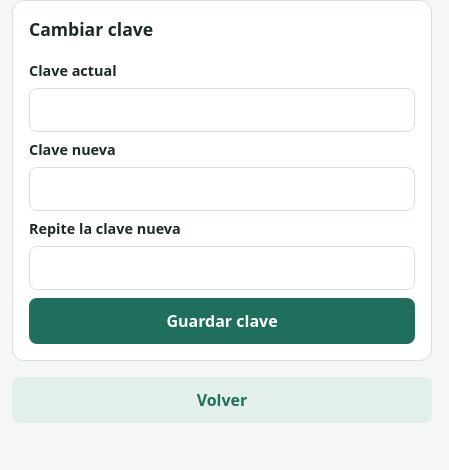
Test case: CambiarClave › no envía nada si la repetición no coincide
This screenshot has width=449, height=470.
Step 1. Type "Temporal123" into the password field labelled "Clave actual" → (222, 110), box left=29, top=88, right=415, bottom=132
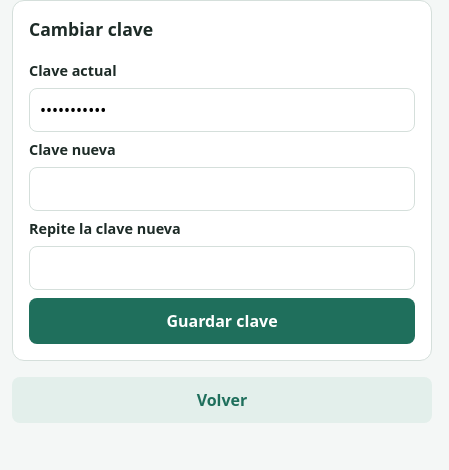
Step 2. Type "MiClaveNueva1" into the password field labelled "Clave nueva" → (222, 189), box left=29, top=167, right=415, bottom=211
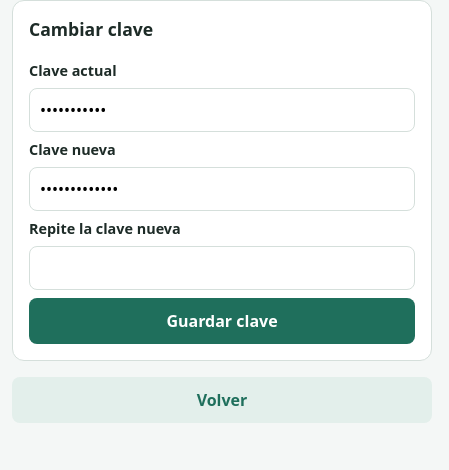
Step 3. Type "OtraClave99" into the password field labelled "Repite la clave nueva" → (222, 268), box left=29, top=246, right=415, bottom=290
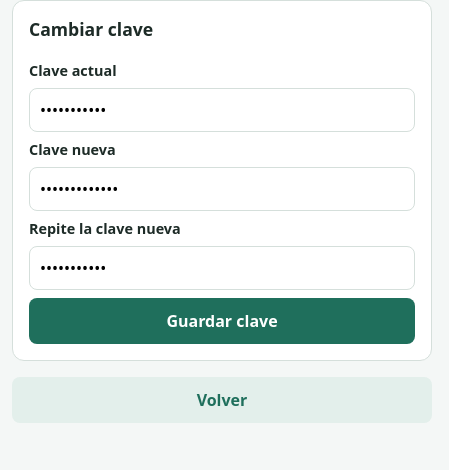
Step 4. Click the button "Guardar clave" → (222, 321), box left=29, top=298, right=415, bottom=344
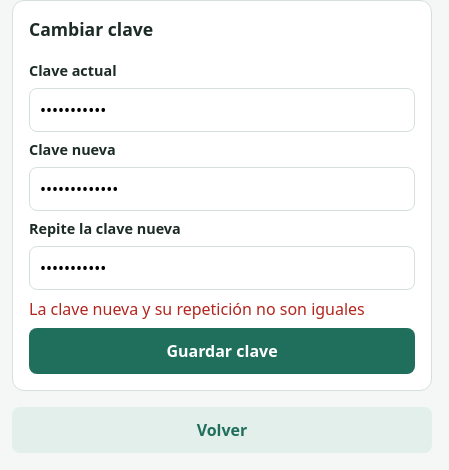
expect the text "La clave nueva y su repetición no son iguales" is shown: met, box left=29, top=298, right=415, bottom=320
